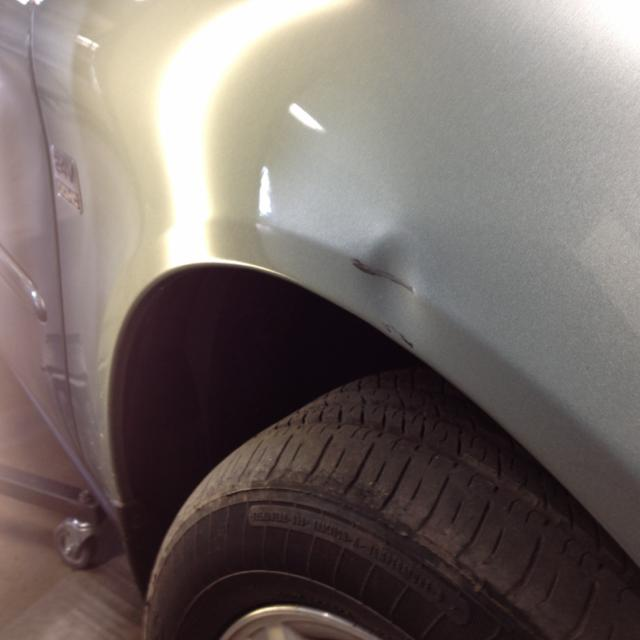dents: (354, 212, 422, 340)
